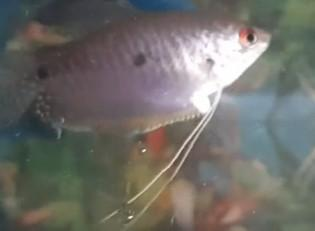Gourami: (2, 0, 275, 176)
